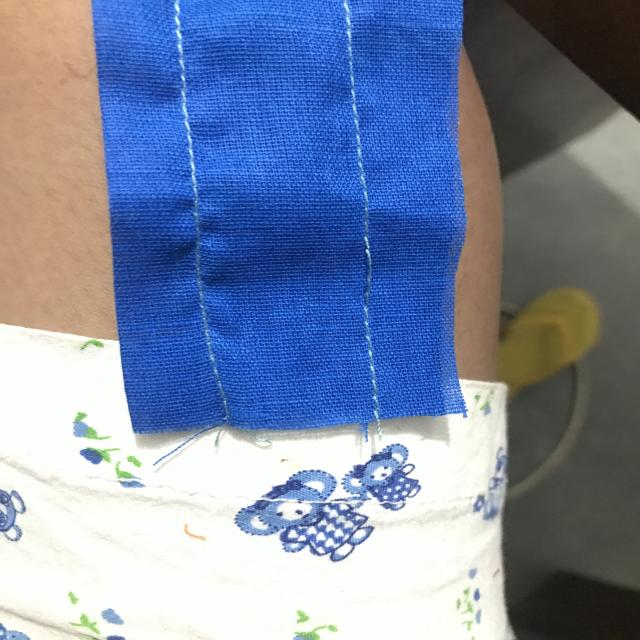skip: (338, 237, 392, 303)
